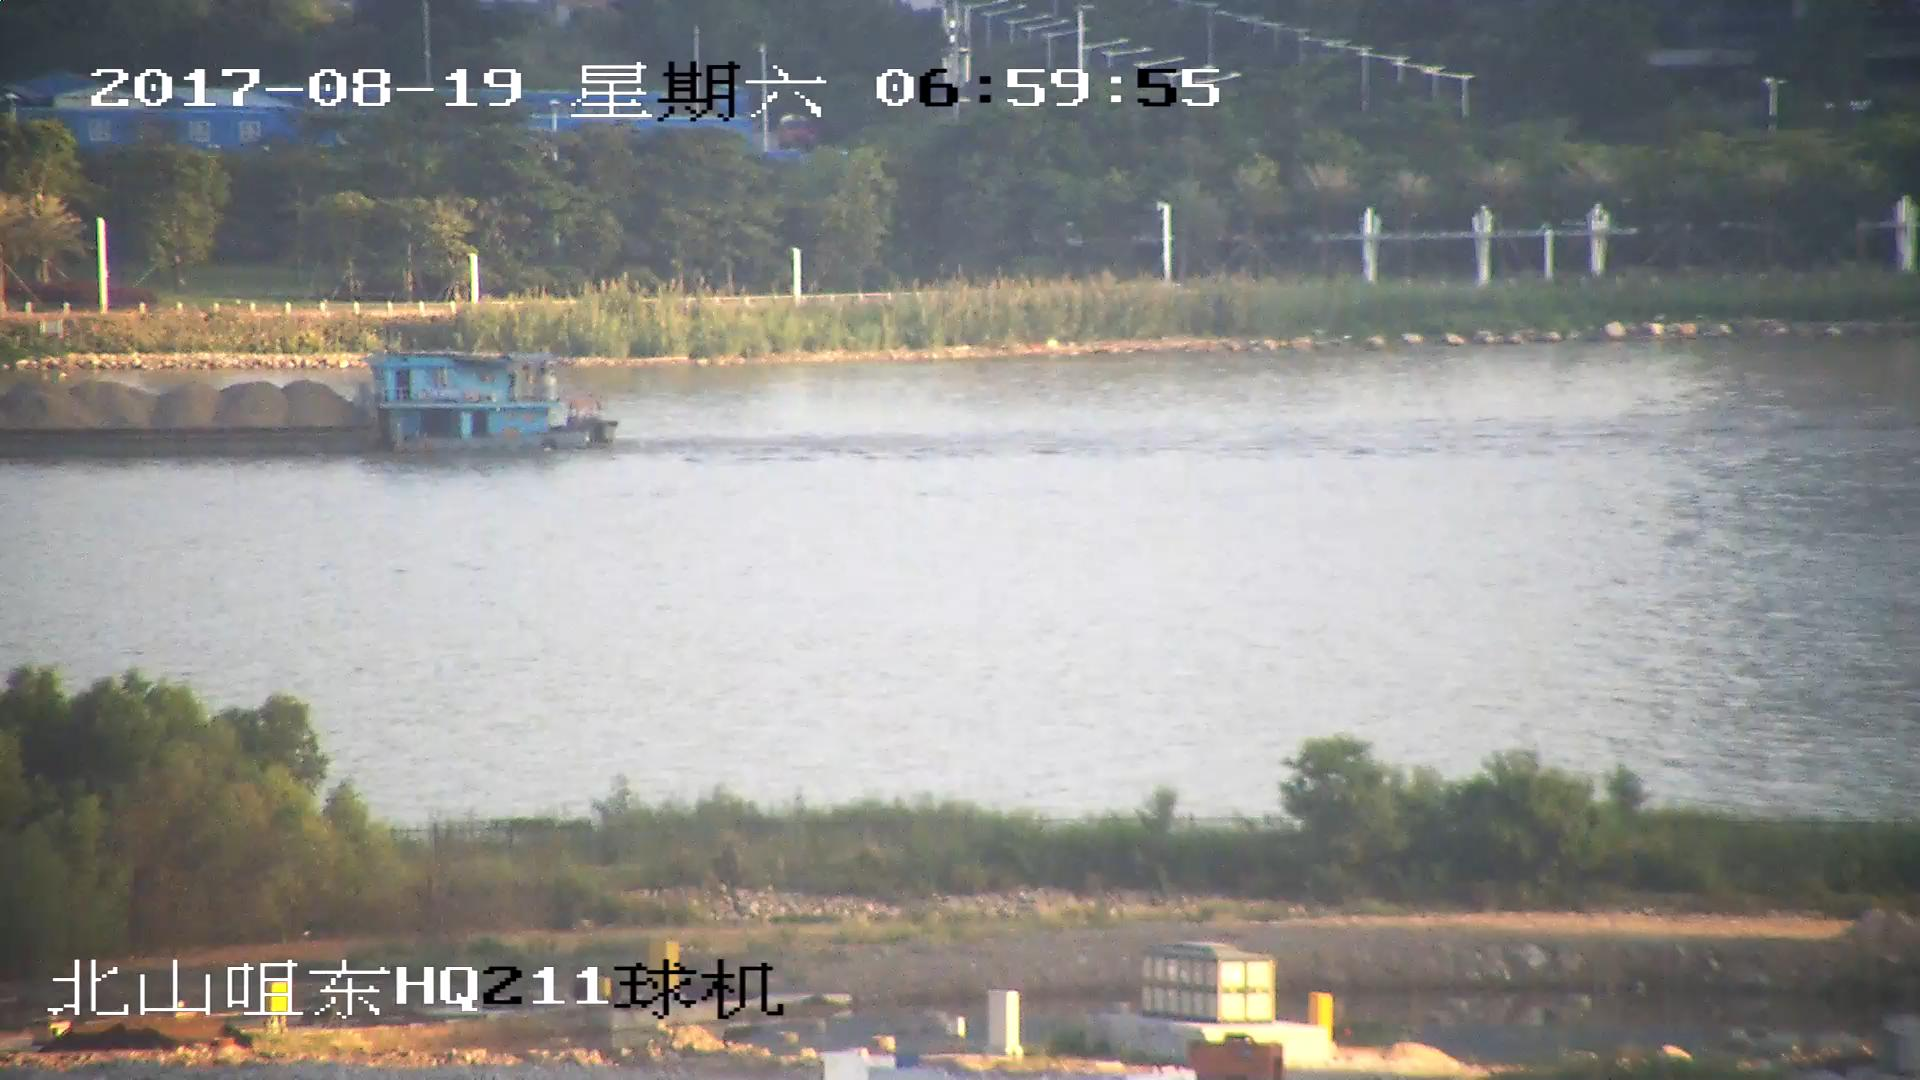ore carrier: (1, 351, 616, 454)
